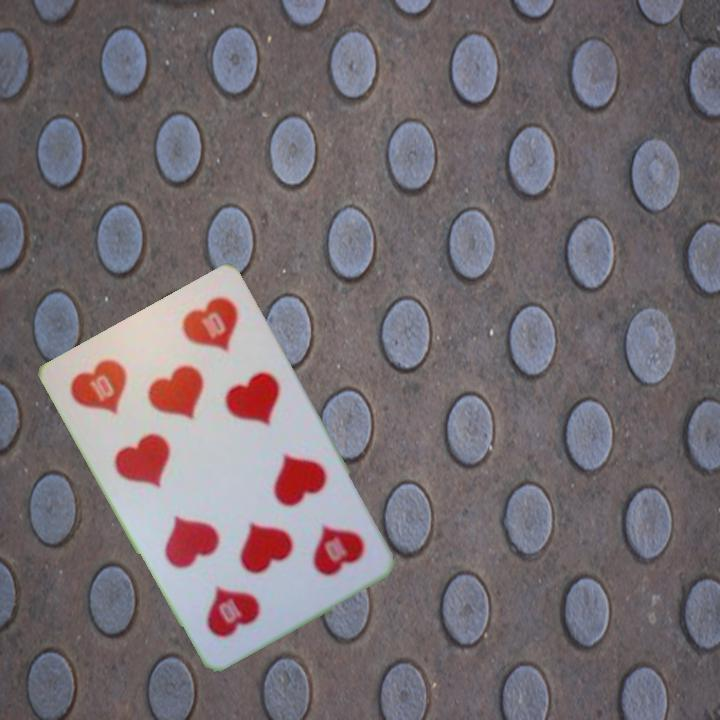h_10.png: (254, 488, 381, 610), (58, 328, 185, 449)
